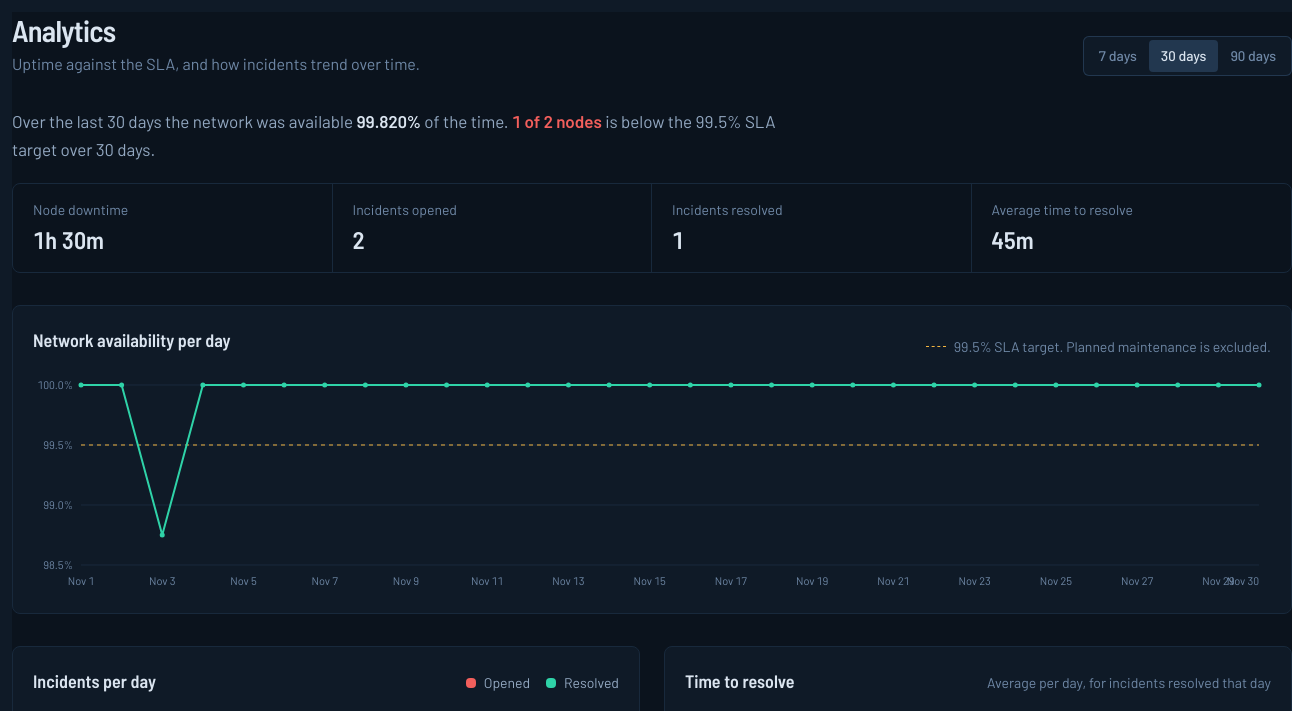
Test case: AnalyticsPage › reloads for a different range
expect the text "99.820%" is shown: met, box x1=356 y1=111 x2=421 y2=131
Step 1. Click the button "7 days" → (1118, 56), box x1=1087 y1=40 x2=1149 y2=72
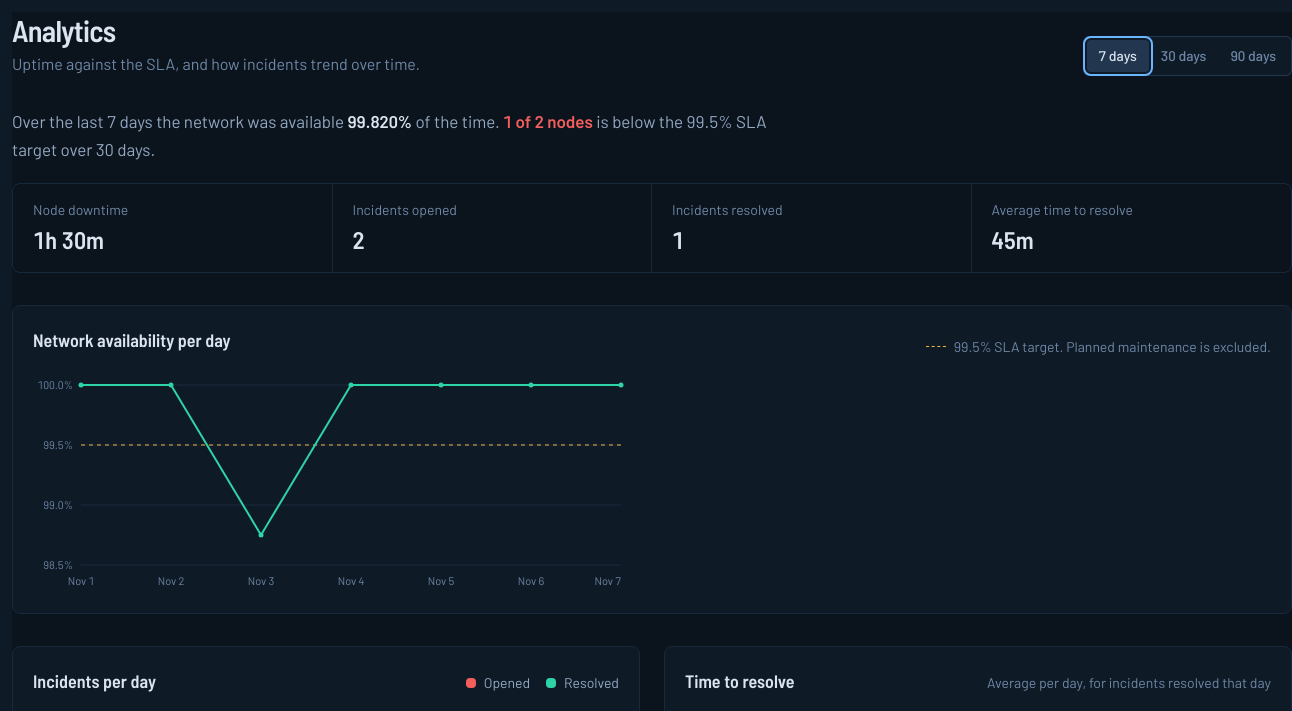
expect the text "Over the last 7 days" is shown: met, box x1=12 y1=108 x2=780 y2=163
